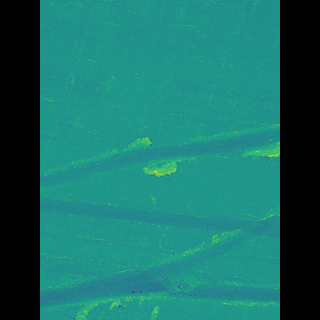Loch: (68, 210, 250, 311), (68, 120, 251, 195)
